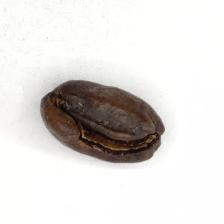NG: (66, 101, 155, 154)
